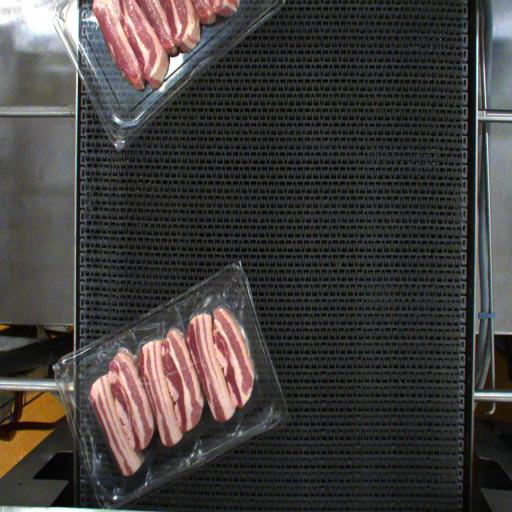unsealed: (86, 294, 262, 494)
